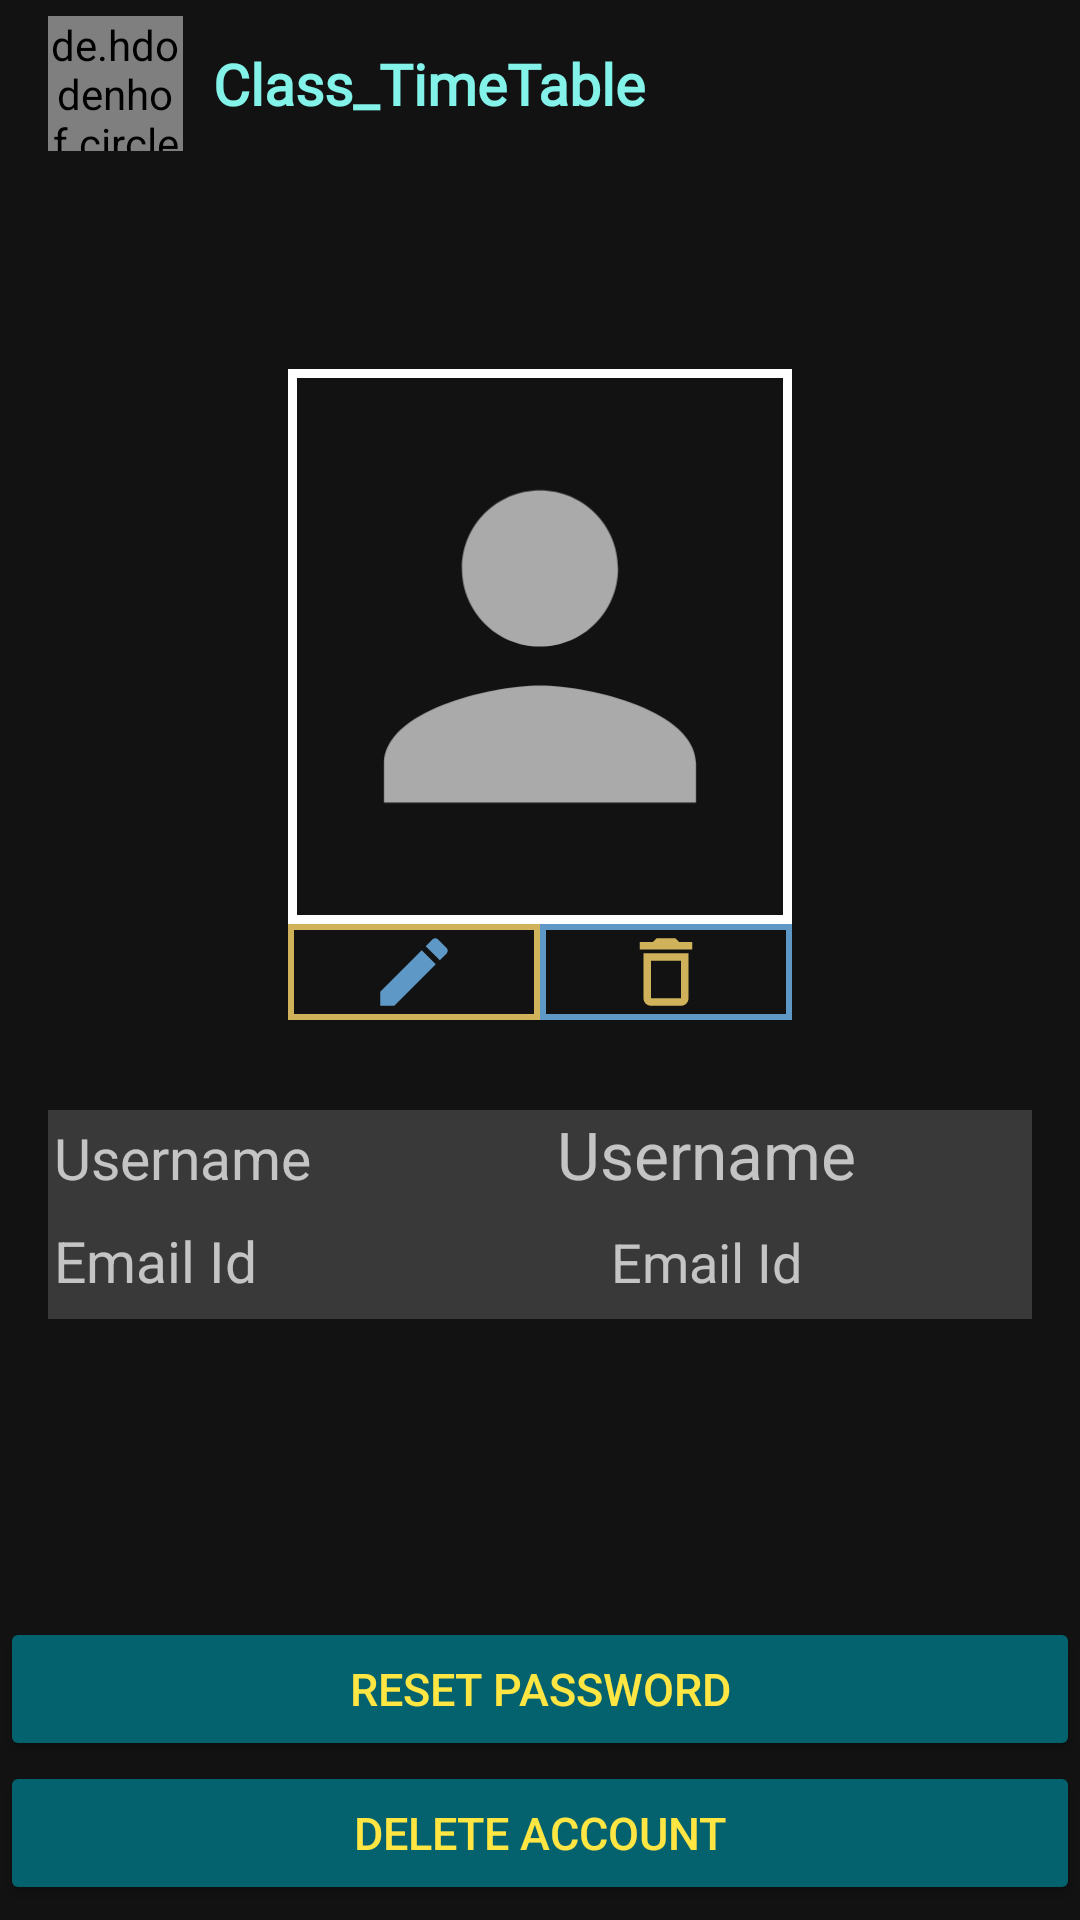

Icons on this 1080w x 1920h Android screen, each with the point to tap as (x,y):
delete: (666,972)
edit: (414,972)
person: (540,646)
